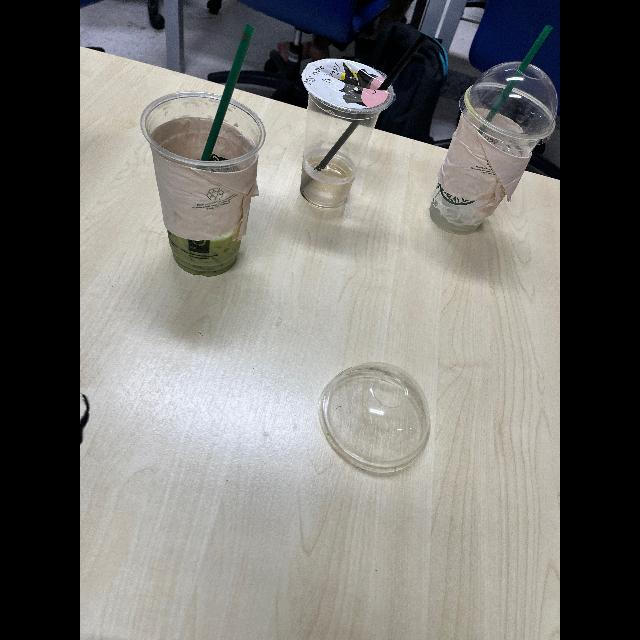plastic_cup: (131, 94, 269, 286), (414, 88, 556, 232), (283, 56, 397, 224)
plastic_cup_lid: (292, 358, 460, 477), (455, 56, 555, 142)
straw: (304, 48, 408, 182), (188, 32, 258, 188), (473, 19, 553, 125)
